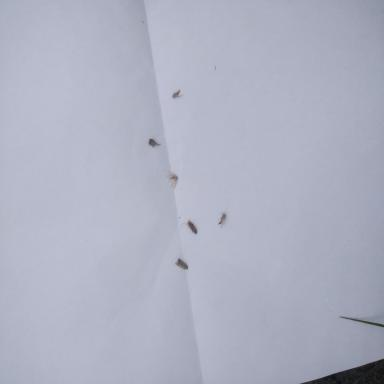pbw: (183, 220, 197, 235), (175, 258, 188, 270), (218, 213, 226, 229), (172, 89, 184, 98)
